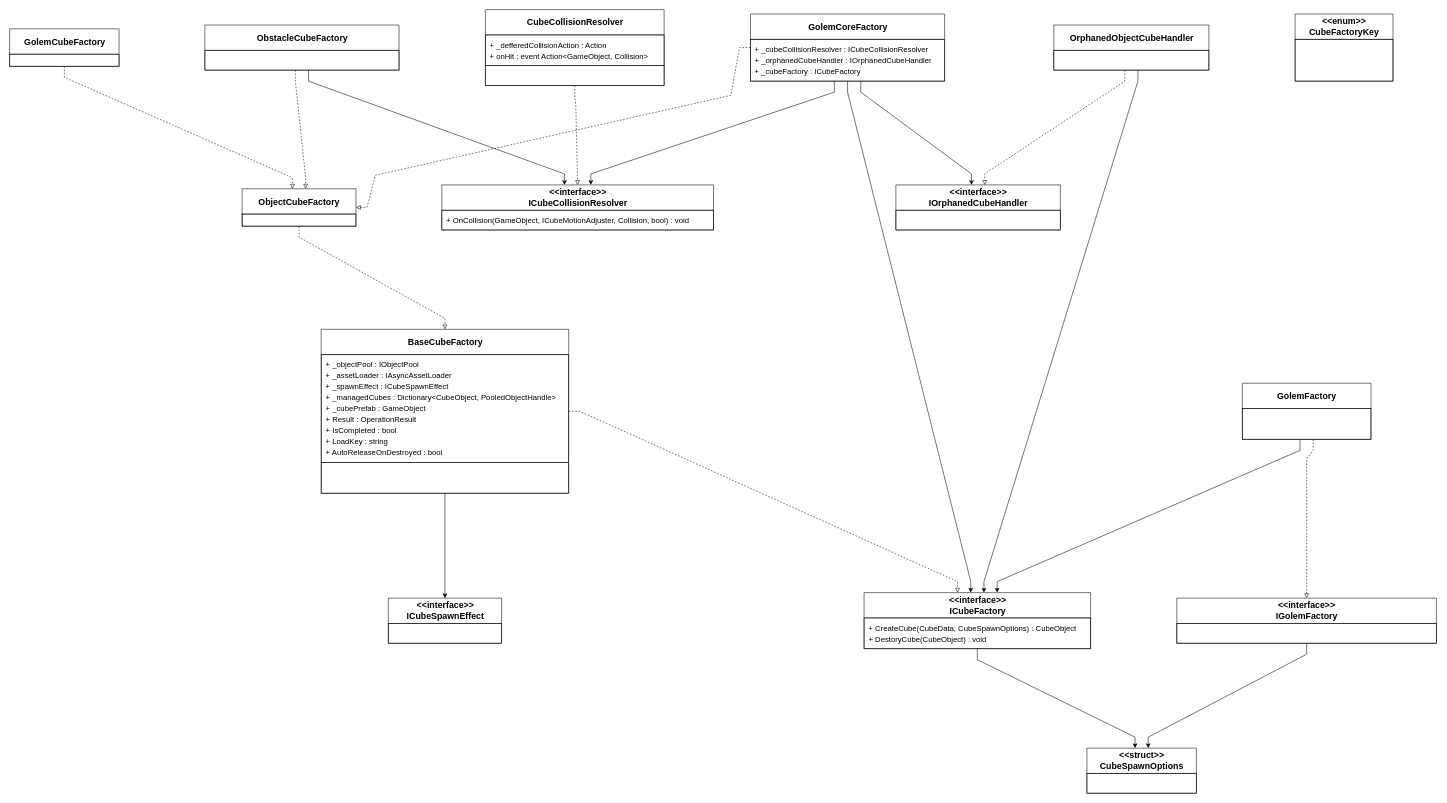
Some shapes in this 1447 by 803 pixel diagram are drawn without their labels. Each missing label, with the centre of its shape:
"+ _coreFactory : ICubeFactory + _cubeFactory : ICubeFactory" goes at point 1306,423.
"+ _cubeCollisionResolver : ICubeCollisionResolver" goes at point 301,60.
"+ _cubeFactory : ICubeFactory" goes at point 1131,60.
"+ CreateGolem(string, GolemData, CubeSpawnOptions) : GolemCore" goes at point 1306,633.
"+ FixedUpdate() : void" goes at point 574,75.
"+ HandleOrphanedCube(CubeObject) : void" goes at point 977,220.
"+ Initialize() : void + Dispose() : void" goes at point 445,477.
"+ IsAnimating : bool" goes at point 1141,783.
"+ Object + Core + Obstacle" goes at point 1344,60.
"+ Play(CubeObject) : void" goes at point 445,633.
